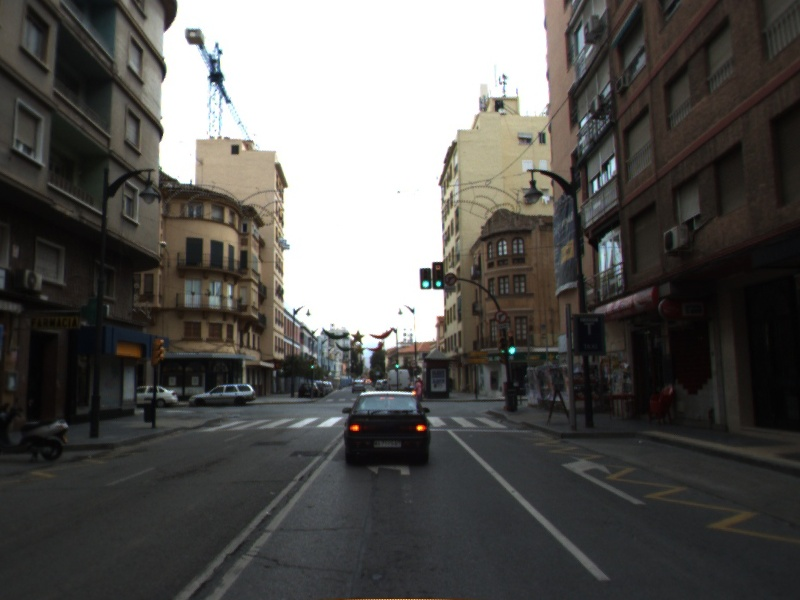RIGHT: (559, 454, 649, 507)
